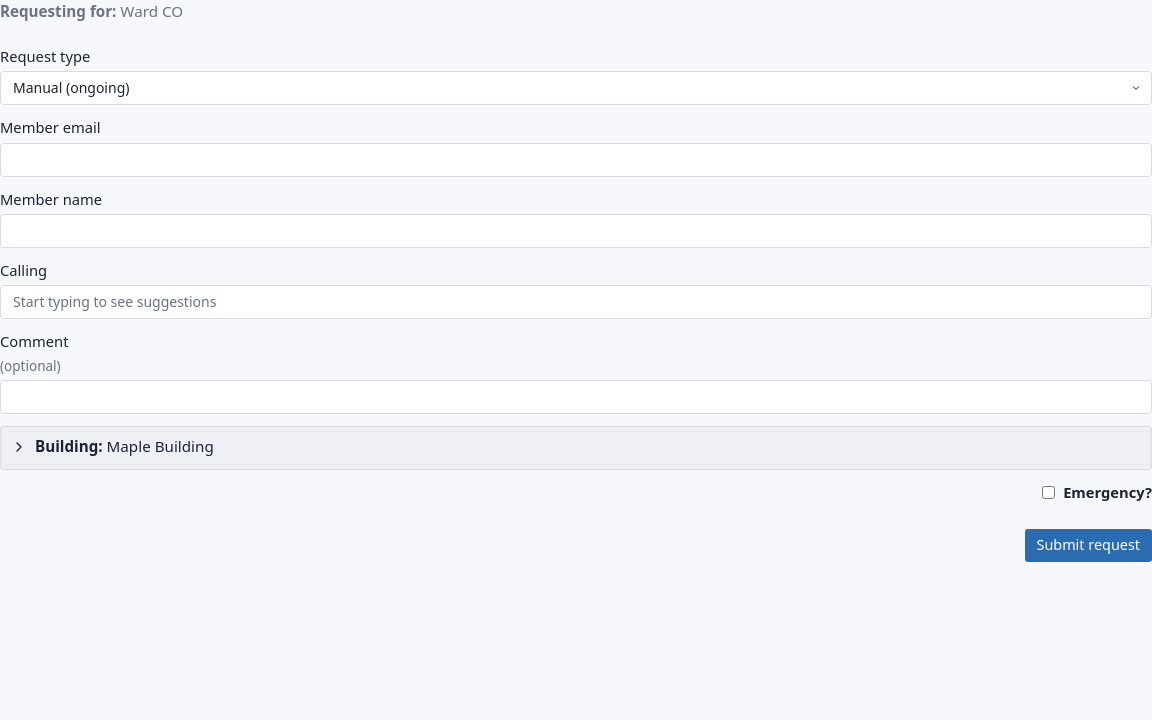
Scenario: <NewRequestForm /> — validation › blocks submit on empty member name
The width and height of the screenshot is (1152, 720).
Type "bob@example.com" into the field with test id "new-request-email" at (576, 160), box [0,143,1151,177]
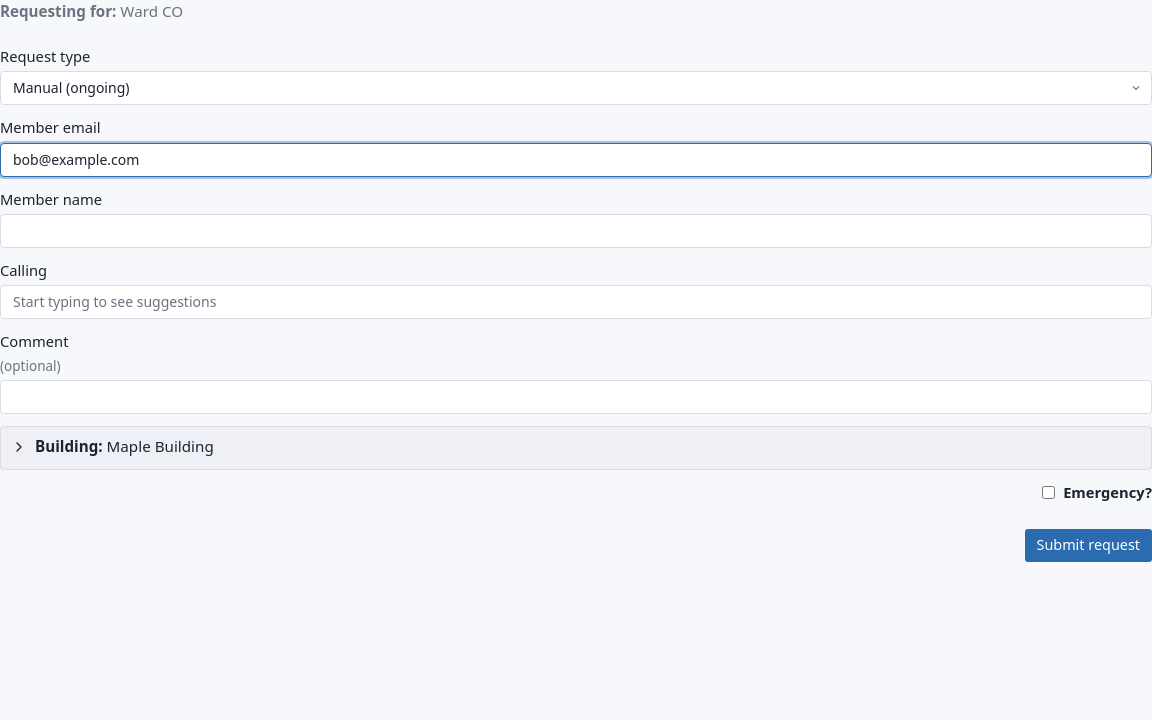
Type "sub teacher" into the field with test id "new-request-reason" at (576, 302), box [0,285,1151,319]
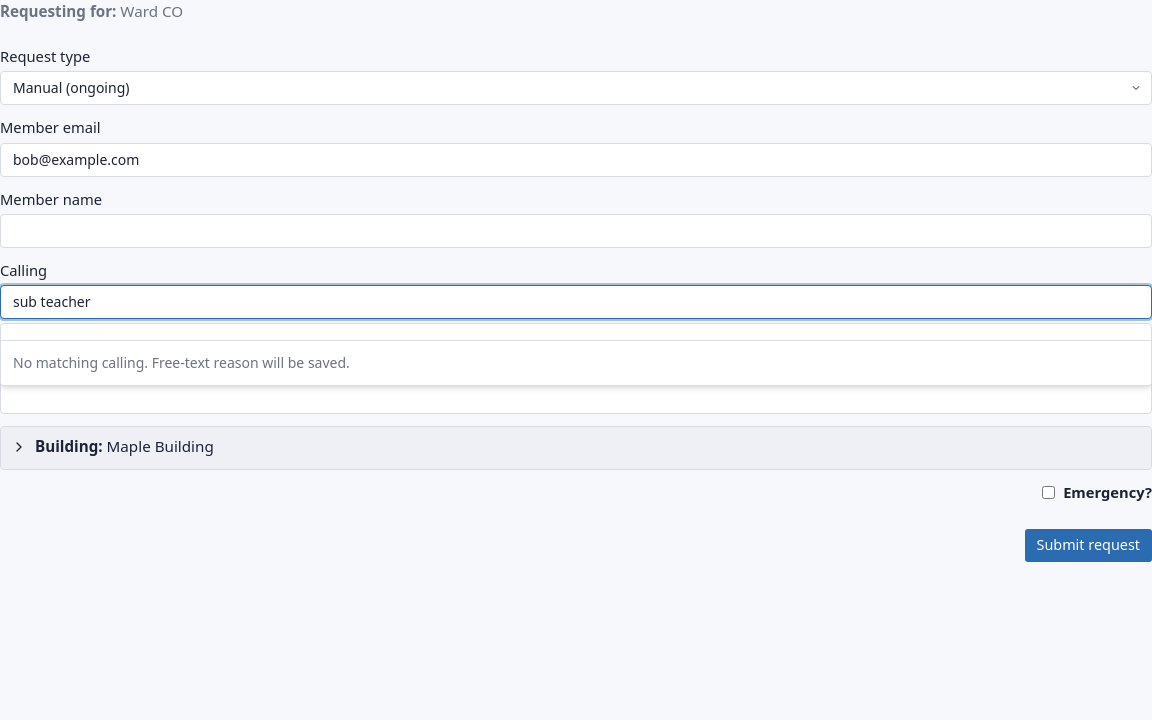
Click the button with test id "new-request-submit" at (1088, 546), box [1024,529,1151,562]
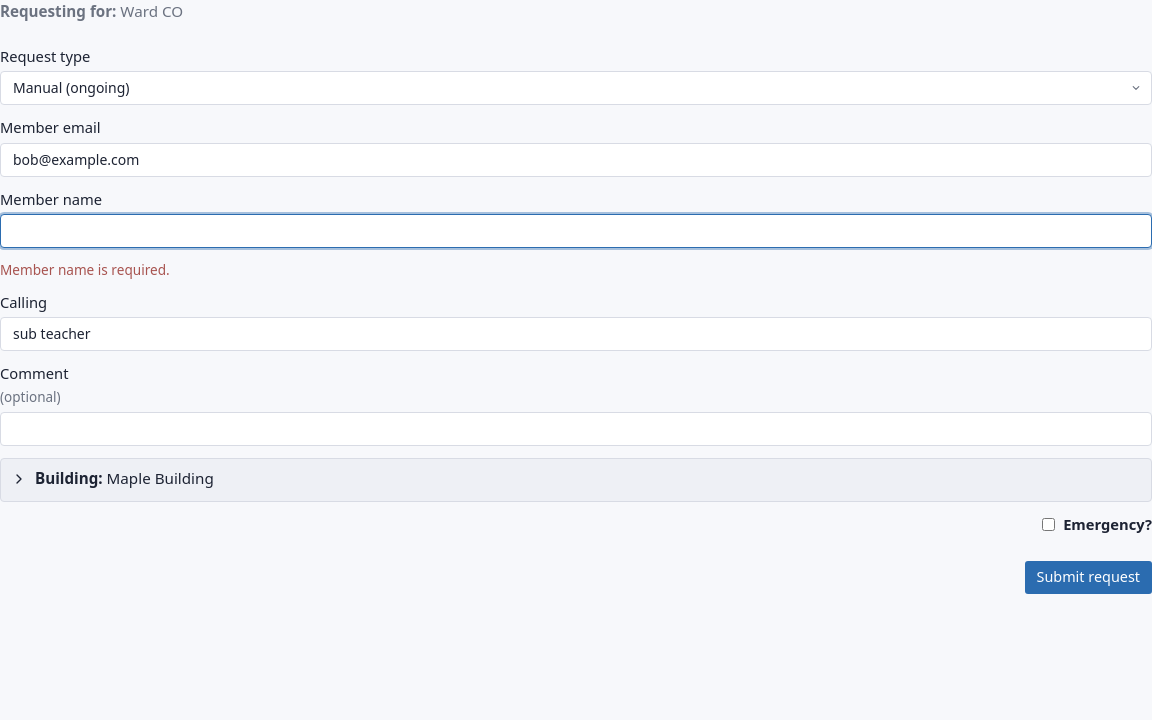
Result: the text "Member name is required." is shown at [0,260,170,279]
